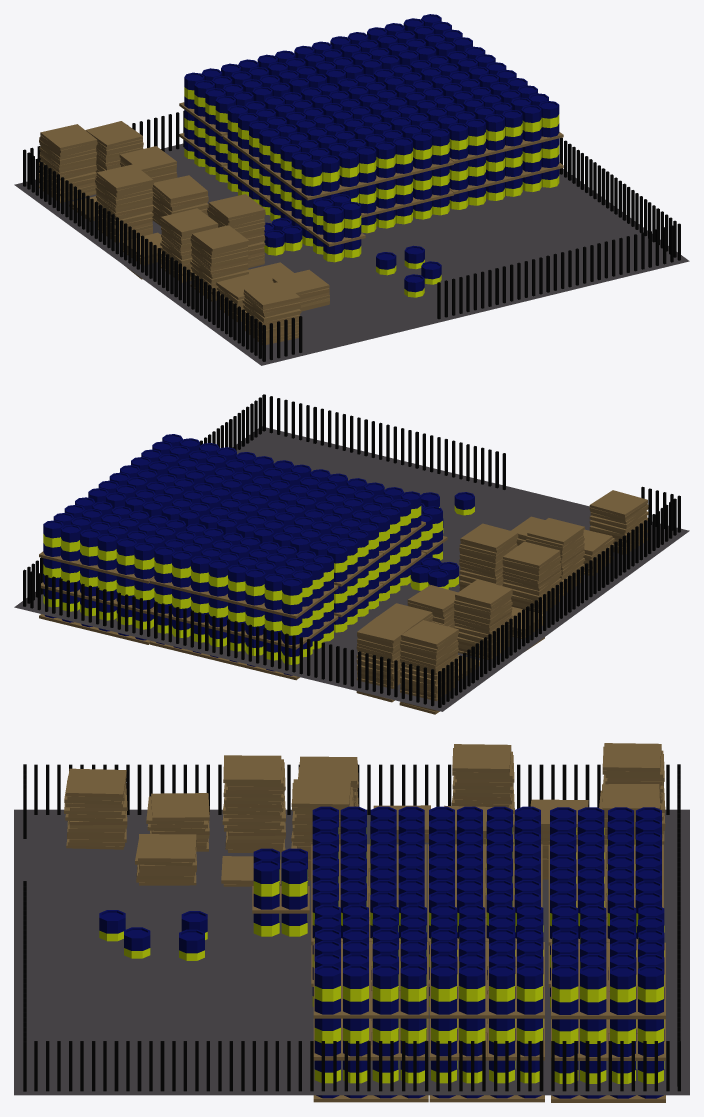
The model's file is 1x1 industry Barrels.fbx.
The picture shows the model from 3 angles, top to bottom: view 1: azimuth 30°, elevation 25°; view 2: azimuth 150°, elevation 25°; view 3: azimuth 270°, elevation 25°; orthographic projection. The views are drawn at different scales.
Visible parts, largest first — view 1: 1x1 Industry Barrels; view 2: 1x1 Industry Barrels; view 3: 1x1 Industry Barrels.
Part boxes in pixels (<box>): 1x1 Industry Barrels: <box>14,14,689,365</box>; 1x1 Industry Barrels: <box>14,394,689,714</box>; 1x1 Industry Barrels: <box>14,743,689,1102</box>.
Bounding box in the file's own units: 1 × 0.2056 × 1.
